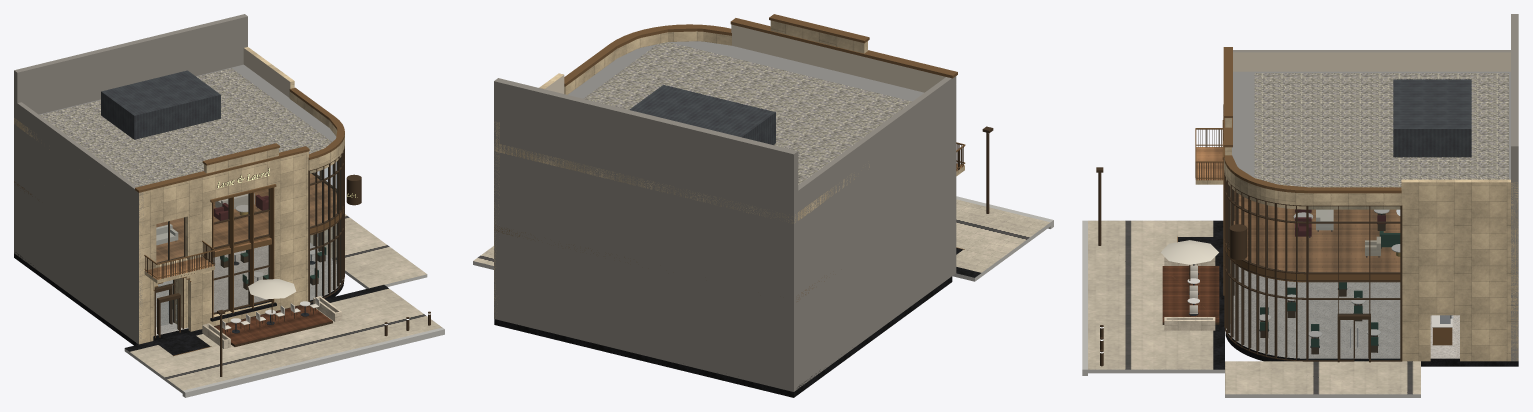
File: lune_and_laurel.glb
The picture shows the model from 3 angles, left to right: view 1: azimuth 30°, elevation 25°; view 2: azimuth 150°, elevation 25°; view 3: azimuth 270°, elevation 25°; orthographic projection. The views are drawn at different scales.
Parts seen in each view (by area): view 1: B03_LOD0_BUILDING_EXTERIOR_Stone, B03_LOD0_BUILDING_EXTERIOR_Roof, B03_SIDEWALK_FRONTAGE_Paving, B03_LOD0_BUILDING_EXTERIOR_RearInterface, B03_LOD0_BUILDING_INTERIOR_GroundSlab, B03_SIDEWALK_FRONTAGE_SidePaving, B03_LOD0_BUILDING_INTERIOR_FirstSlab, B03_LOD0_GLASS_SYSTEM_CornerFrame, B03_LOD0_FACADE_DETAILS_Bronze, B03_OPTIONAL_FORECOURT_Deck, B03_LOD0_GLASS_SYSTEM_TallWindowFrame, B03_OPTIONAL_FORECOURT_BistroSets (+12 smaller); view 2: B03_LOD0_BUILDING_EXTERIOR_Stone, B03_LOD0_BUILDING_EXTERIOR_RearInterface, B03_LOD0_BUILDING_EXTERIOR_Roof, B03_SIDEWALK_FRONTAGE_Paving, B03_LOD0_BUILDING_INTERIOR_GroundSlab, B03_LOD0_FACADE_DETAILS_Bronze, B03_LOD0_FACADE_DETAILS_CornerBands, B03_LOD2_FACADE_DETAILS_CornerBands; view 3: B03_LOD0_BUILDING_EXTERIOR_Roof, B03_LOD0_BUILDING_EXTERIOR_Stone, B03_SIDEWALK_FRONTAGE_Paving, B03_LOD0_BUILDING_INTERIOR_GroundSlab, B03_LOD0_BUILDING_INTERIOR_FirstSlab, B03_LOD0_GLASS_SYSTEM_CornerFrame, B03_SIDEWALK_FRONTAGE_SidePaving, B03_LOD0_FACADE_DETAILS_CornerBands, B03_LOD0_BUILDING_EXTERIOR_RearInterface, B03_LOD1_GLASS_SYSTEM_CornerFrame, B03_OPTIONAL_FORECOURT_Deck, B03_LOD2_GLASS_SYSTEM_CornerFrame (+10 smaller).
Boxes of the visible parts, x1,y1,x2,y2 form: B03_LOD0_BUILDING_EXTERIOR_Stone: (14,47,308,344); B03_LOD0_BUILDING_EXTERIOR_Roof: (14,64,343,186); B03_SIDEWALK_FRONTAGE_Paving: (124,285,444,397); B03_LOD0_BUILDING_EXTERIOR_RearInterface: (14,14,247,254); B03_LOD0_BUILDING_INTERIOR_GroundSlab: (14,243,343,345); B03_SIDEWALK_FRONTAGE_SidePaving: (310,214,427,288); B03_LOD0_BUILDING_INTERIOR_FirstSlab: (14,173,340,262); B03_LOD0_GLASS_SYSTEM_CornerFrame: (309,149,344,302); B03_LOD0_FACADE_DETAILS_Bronze: (135,143,309,321); B03_OPTIONAL_FORECOURT_Deck: (214,304,332,346); B03_LOD0_GLASS_SYSTEM_TallWindowFrame: (212,187,273,317); B03_OPTIONAL_FORECOURT_BistroSets: (222,279,319,334); B03_LOD0_BUILDING_EXTERIOR_Stone: (494,20,956,391); B03_LOD0_BUILDING_EXTERIOR_RearInterface: (494,78,798,390); B03_LOD0_BUILDING_EXTERIOR_Roof: (494,41,924,223); B03_SIDEWALK_FRONTAGE_Paving: (952,196,1053,281); B03_LOD0_BUILDING_INTERIOR_GroundSlab: (494,276,952,397); B03_LOD0_FACADE_DETAILS_Bronze: (730,14,964,176); B03_LOD0_FACADE_DETAILS_CornerBands: (564,24,731,94); B03_LOD2_FACADE_DETAILS_CornerBands: (617,25,731,58); B03_LOD0_BUILDING_EXTERIOR_Roof: (1226,71,1510,209); B03_LOD0_BUILDING_EXTERIOR_Stone: (1225,50,1518,361); B03_SIDEWALK_FRONTAGE_Paving: (1082,220,1224,375); B03_LOD0_BUILDING_INTERIOR_GroundSlab: (1225,264,1518,366); B03_LOD0_BUILDING_INTERIOR_FirstSlab: (1228,191,1400,282); B03_LOD0_GLASS_SYSTEM_CornerFrame: (1224,176,1401,362); B03_SIDEWALK_FRONTAGE_SidePaving: (1225,361,1420,397); B03_LOD0_FACADE_DETAILS_CornerBands: (1224,155,1401,205); B03_LOD0_BUILDING_EXTERIOR_RearInterface: (1511,14,1518,361); B03_LOD1_GLASS_SYSTEM_CornerFrame: (1224,173,1307,361); B03_OPTIONAL_FORECOURT_Deck: (1162,266,1219,324); B03_LOD2_GLASS_SYSTEM_CornerFrame: (1224,175,1402,361).
Size of what is drawn, in the model's own units: 21 by 12.47 by 22.3.
41 materials, 11 textured.
